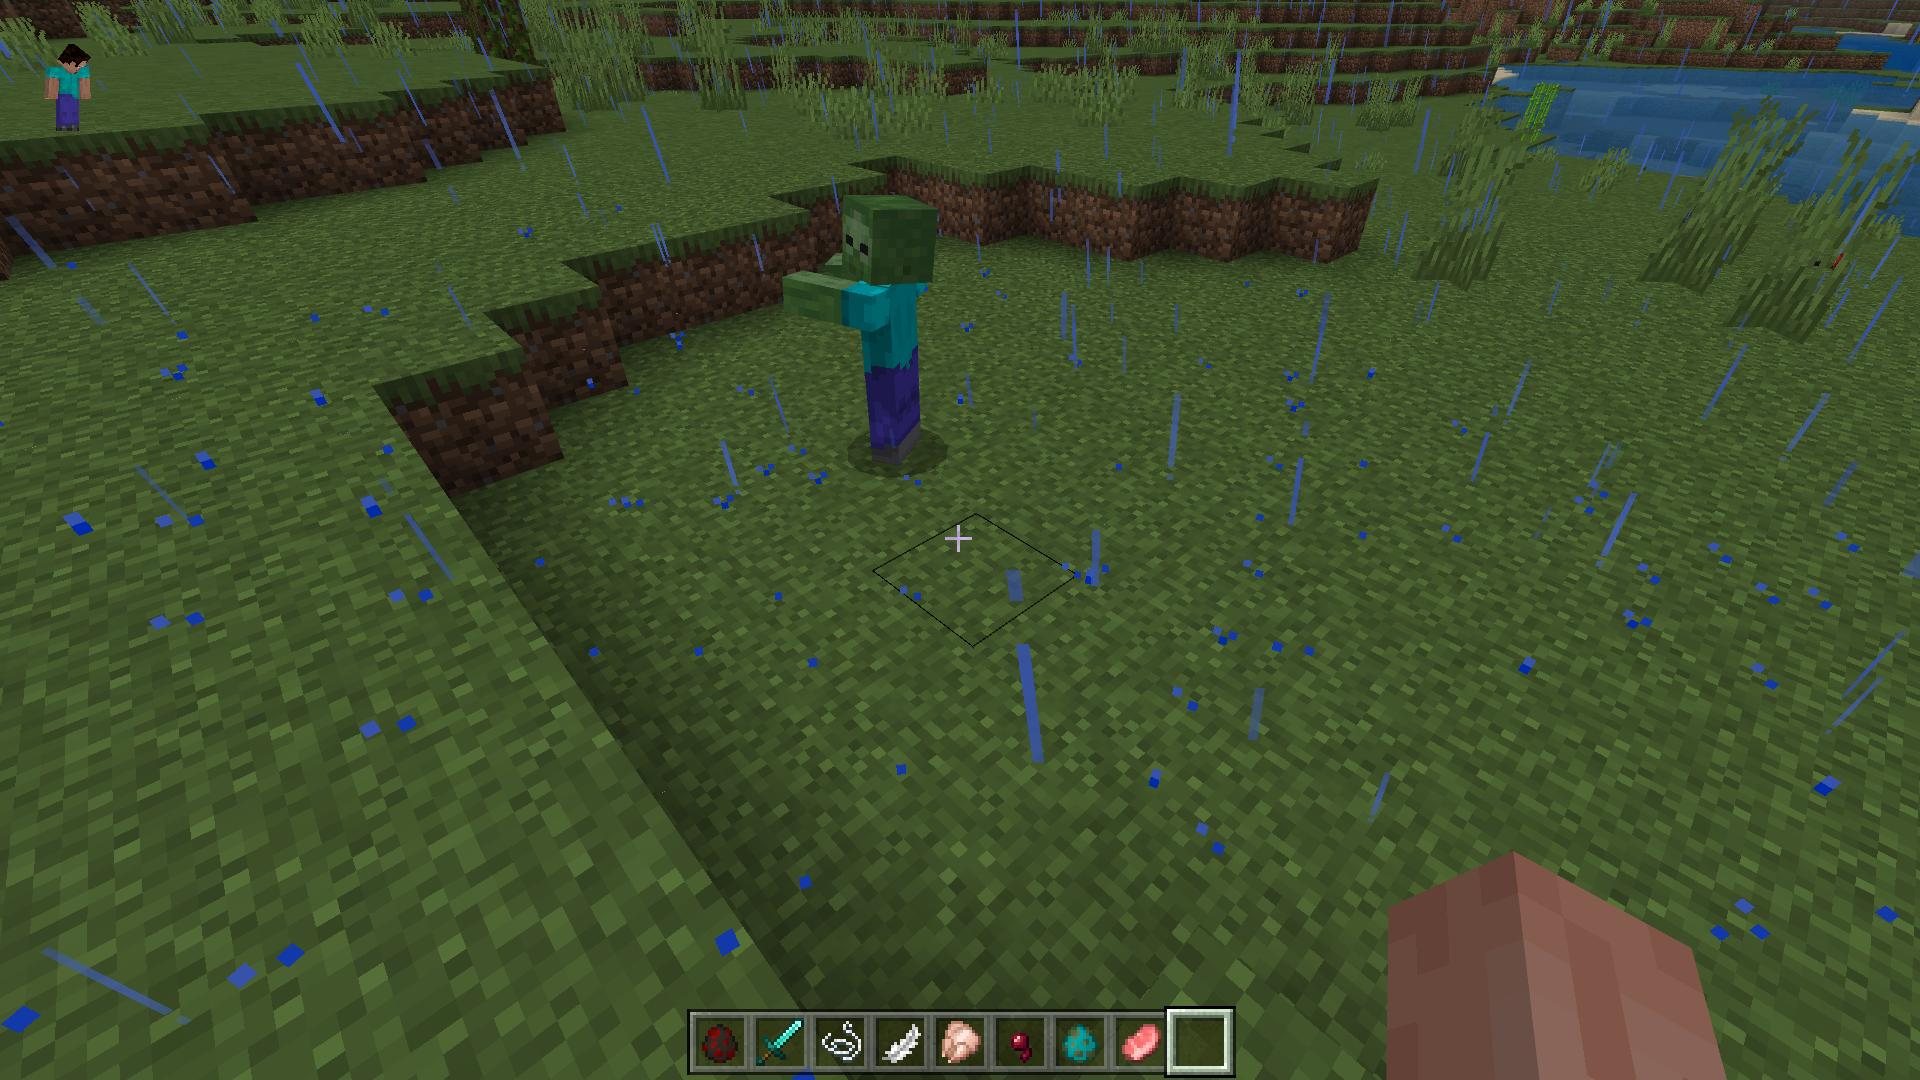zombie: (783, 195, 942, 469)
